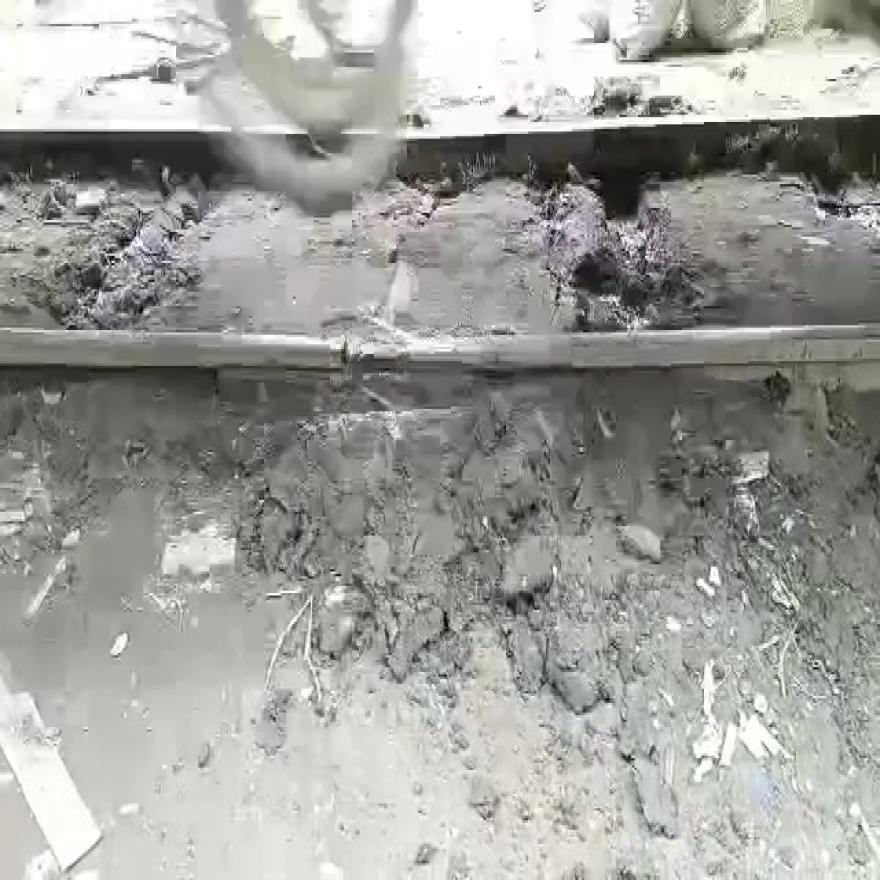railway-gap: (318, 298, 377, 404)
